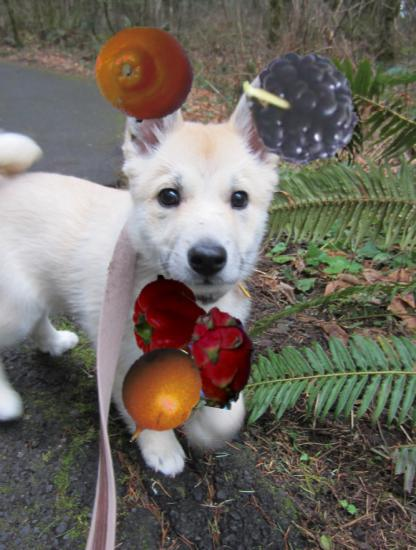Granadilla: (104, 343, 211, 450)
Mulberry: (248, 43, 385, 180)
Pepper: (126, 277, 217, 368)
Pitahaya: (171, 307, 273, 409)
Tangelo: (93, 24, 196, 127)
